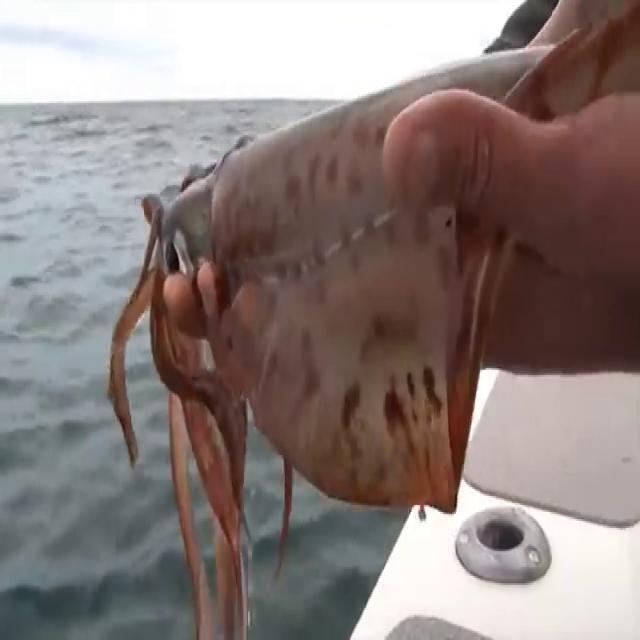squid: (110, 0, 640, 640)
